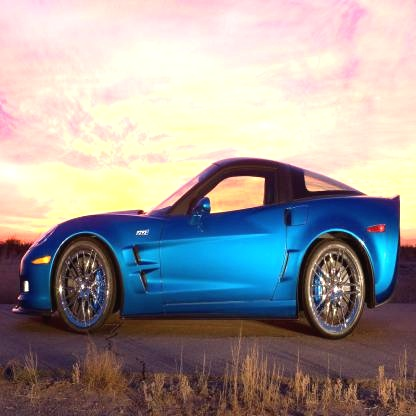Vehicle: (11, 154, 400, 343)
